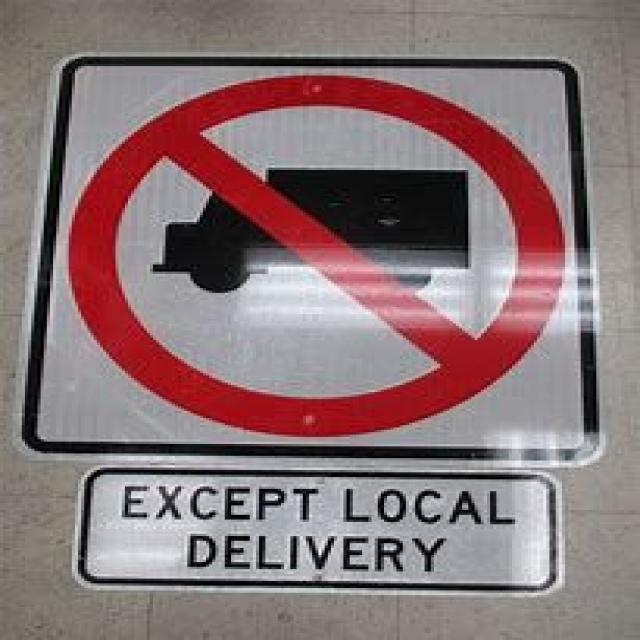TRUCK_PROHIBITED: (62, 73, 562, 435)
